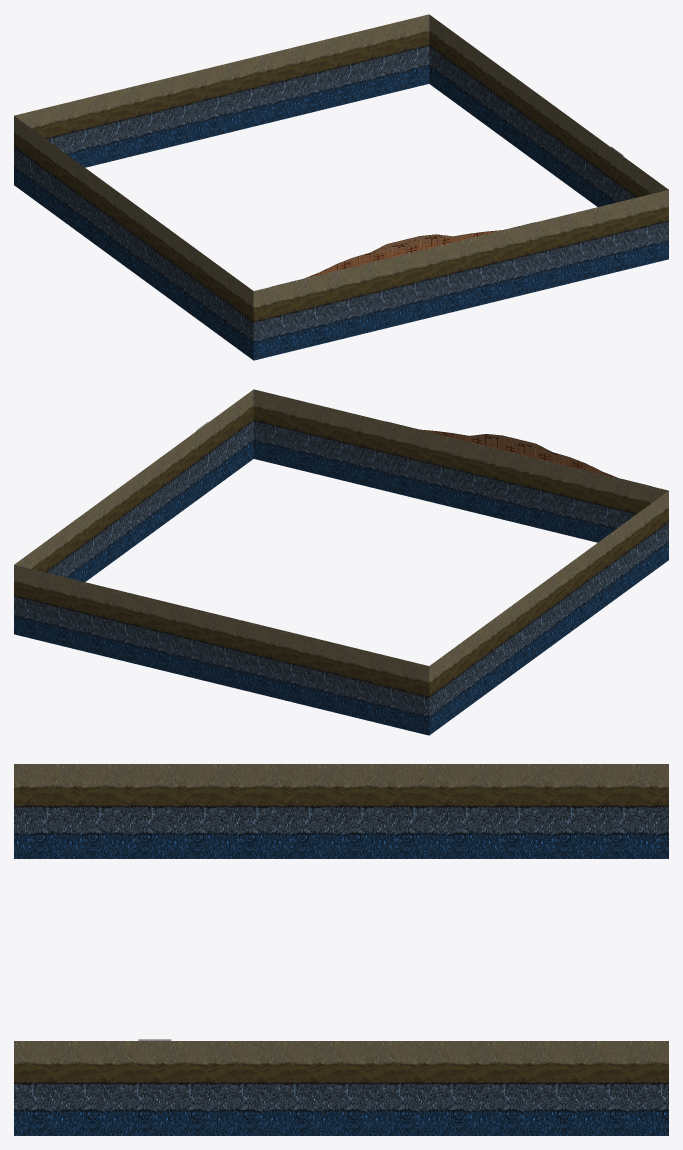
3 renders of one model, top to bottom at view 1: azimuth 30°, elevation 25°; view 2: azimuth 150°, elevation 25°; view 3: azimuth 270°, elevation 25°, orthographic. The views are drawn at different scales.
Visible parts, largest first — view 1: Joint_0_Object_2, Joint_0_Object_0; view 2: Joint_0_Object_2, Joint_0_Object_0; view 3: Joint_0_Object_2.
Boxes of the visible parts, x1,y1,x2,y2 form: Joint_0_Object_2: [14, 14, 668, 360]; Joint_0_Object_0: [304, 230, 501, 278]; Joint_0_Object_2: [14, 389, 668, 735]; Joint_0_Object_0: [421, 430, 617, 477]; Joint_0_Object_2: [14, 764, 668, 1135].
Bounding box in the file's own units: 10000 × 1935 × 10000.
